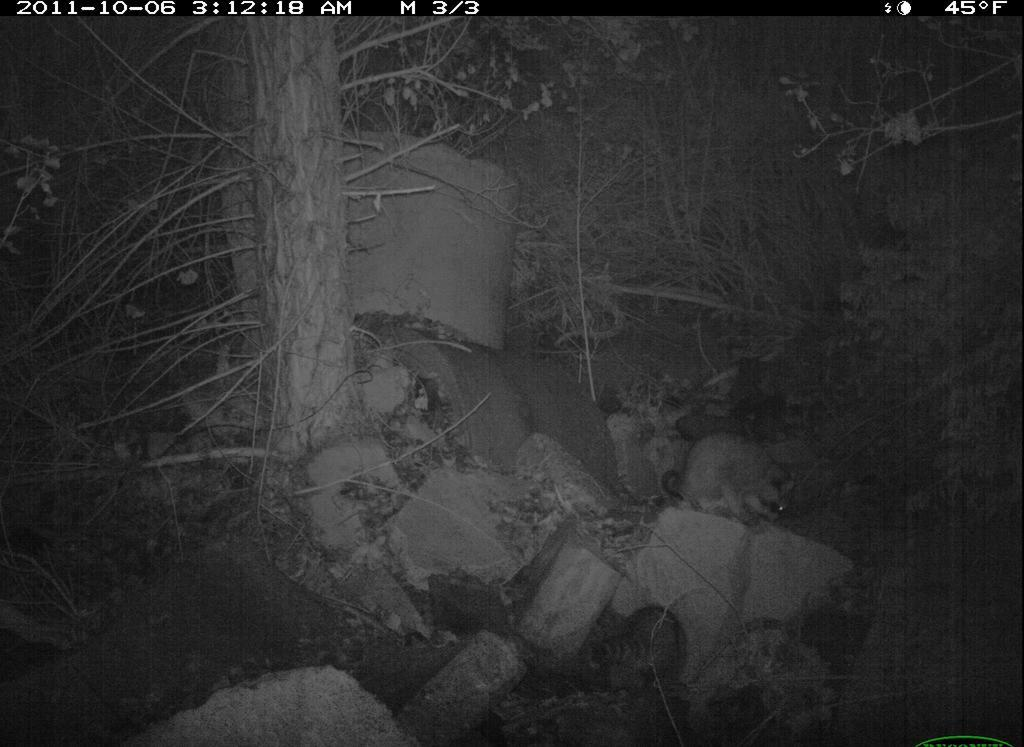raccoon: (656, 425, 806, 543), (587, 600, 692, 703)
